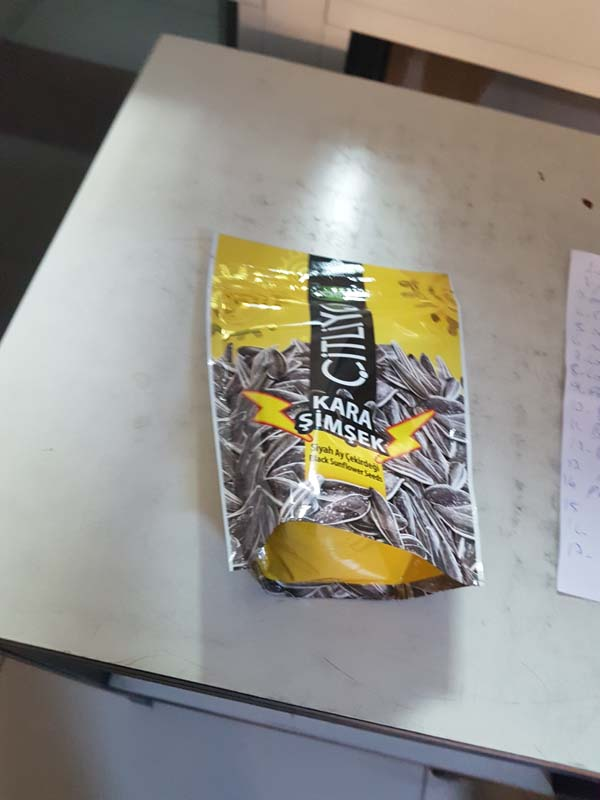citliyokarasimsek: (197, 223, 494, 605)
